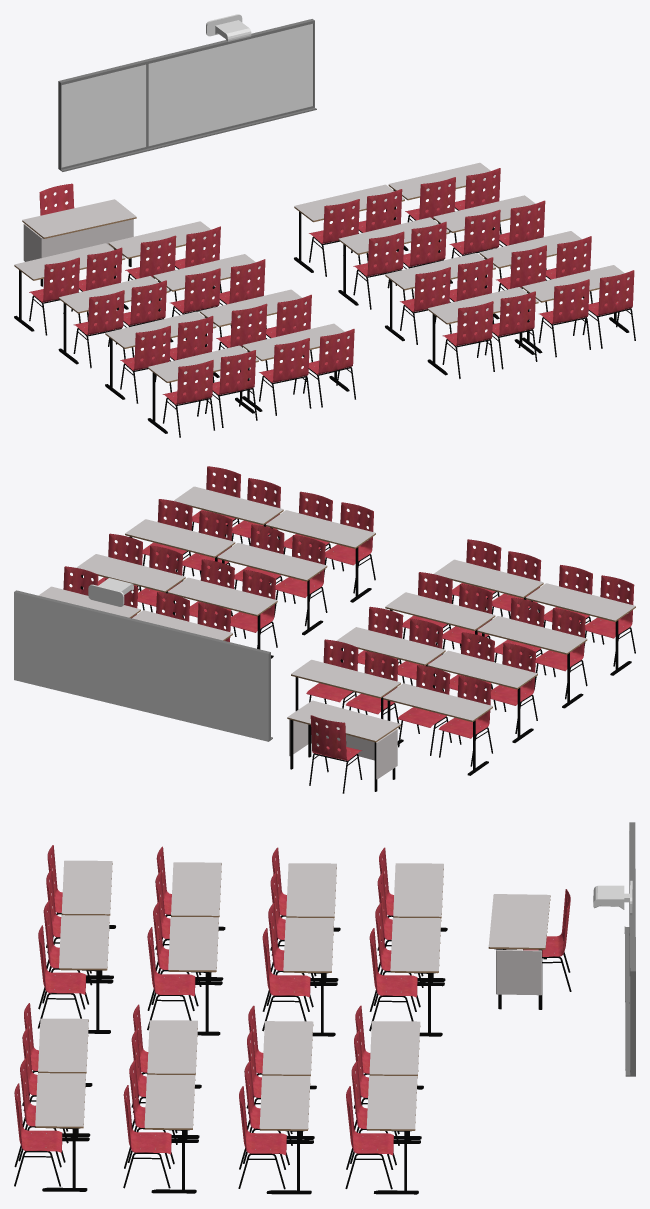
File: fur_bn2_012_sized.glb
3 views of the same model, one above another, from view 1: azimuth 30°, elevation 25°; view 2: azimuth 150°, elevation 25°; view 3: azimuth 270°, elevation 25° (orthographic). The views are drawn at different scales.
Parts seen in each view (by area): view 1: Tableau49, Tableau50, Table_prof_Table21, Table_prof_Cube_21, Chaise_Rouge_Pied_557, Chaise_Rouge_Pied_571, Chaise_Rouge_Pied_573, Chaise_Rouge_Pied_555, Chaise_Rouge_Pied_556, Chaise_Rouge_Pied_572, Chaise_Rouge_Pied_565, Chaise_Rouge_Pied_549 (+41 smaller); view 2: Tableau49, Tableau50, Table_prof_Table21, Table_Table399, Table_Table407, Table_Table408, Table_Table402, Table_Table410, Table_Table400, Table_Table395, Table_Table396, Table_Table406 (+42 smaller); view 3: Table_prof_Table21, Table_Table401, Table_Table409, Table_Table402, Table_Table410, Table_Table405, Table_Table403, Table_Table397, Table_Table407, Table_Table395, Table_Table399, Table_Table400 (+38 smaller).
Boxes of the visible parts, x1,y1,x2,y2 form: Tableau49: (145, 19, 316, 150); Tableau50: (58, 60, 148, 171); Table_prof_Table21: (22, 199, 136, 238); Table_prof_Cube_21: (23, 219, 133, 261); Chaise_Rouge_Pied_557: (162, 360, 214, 437); Chaise_Rouge_Pied_571: (538, 279, 590, 357); Chaise_Rouge_Pied_573: (442, 301, 494, 378); Chaise_Rouge_Pied_555: (259, 338, 311, 415); Chaise_Rouge_Pied_556: (303, 329, 355, 407); Chaise_Rouge_Pied_572: (582, 270, 635, 348); Chaise_Rouge_Pied_565: (353, 231, 405, 309); Chaise_Rouge_Pied_549: (73, 290, 125, 368); Tableau49: (14, 590, 184, 720); Tableau50: (181, 631, 272, 741); Table_prof_Table21: (287, 700, 400, 742); Table_Table399: (385, 592, 495, 630); Table_Table407: (125, 519, 235, 557); Table_Table408: (217, 543, 327, 581); Table_Table402: (525, 583, 635, 621); Table_Table410: (265, 510, 375, 548); Table_Table400: (477, 616, 587, 654); Table_Table395: (291, 659, 400, 698); Table_Table396: (383, 683, 492, 721); Table_Table406: (167, 577, 277, 616); Table_prof_Table21: (488, 894, 550, 949); Table_Table401: (59, 915, 109, 970); Table_Table409: (35, 1073, 85, 1128); Table_Table402: (61, 860, 112, 915); Table_Table410: (38, 1018, 88, 1073); Table_Table405: (259, 1075, 310, 1130); Table_Table403: (366, 1075, 417, 1130); Table_Table397: (283, 917, 334, 972); Table_Table407: (144, 1074, 195, 1129); Table_Table395: (390, 917, 441, 973); Table_Table399: (168, 917, 218, 972); Table_Table400: (171, 862, 221, 917).
Bounding box in the file's own units: 6.56 × 2.38 × 6.42.
10 materials, 2 textured.
